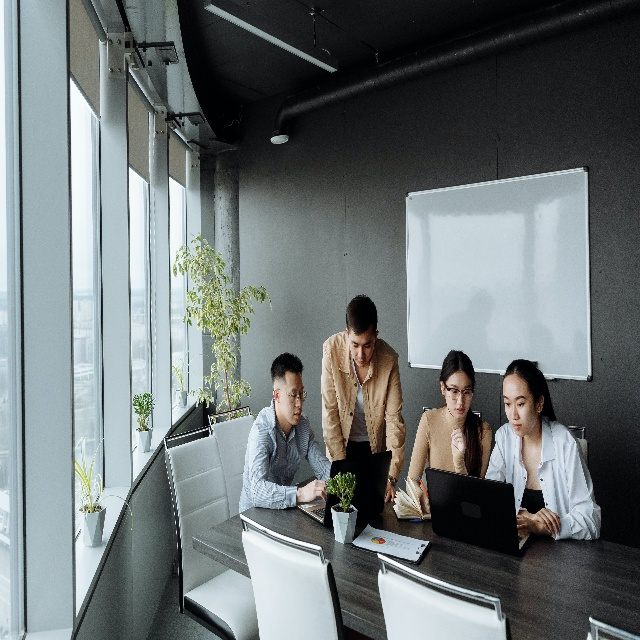Gafas: (444, 380, 475, 401), (272, 387, 307, 404)
Sin_guantes: (534, 506, 562, 541), (302, 478, 328, 502), (450, 425, 467, 452), (515, 513, 536, 533), (384, 478, 396, 504), (419, 491, 431, 514)
